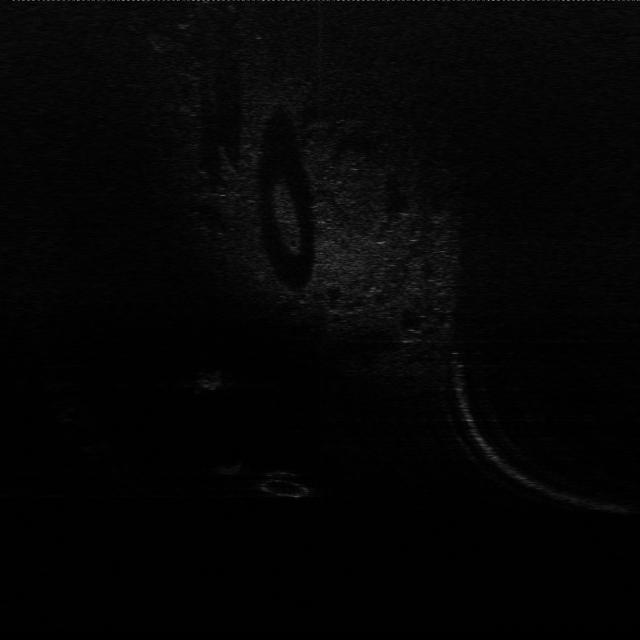cube: (213, 456, 242, 478)
square cage: (191, 368, 227, 393)
tyre: (257, 469, 318, 502)
